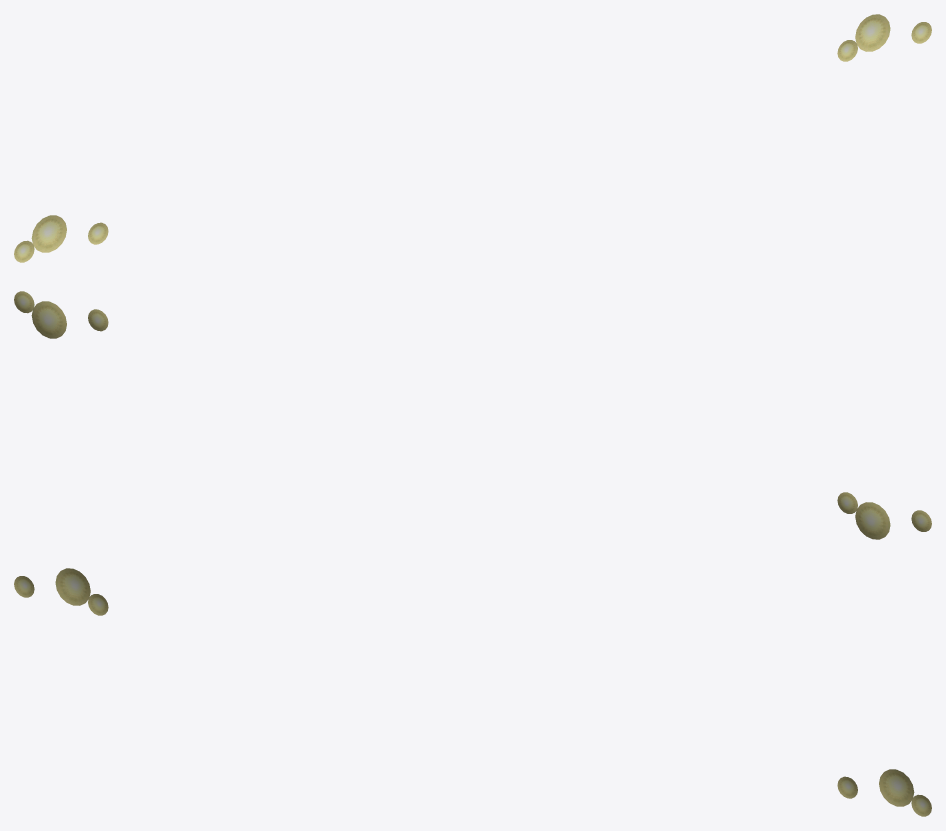
File: sorosuub_space_yacht_engine_on_l0.fbx
3 renders of one model, top to bottom at view 1: azimuth 30°, elevation 25°; view 2: azimuth 150°, elevation 25°; view 3: azimuth 330°, elevation 25°, orthographic.
Visible parts, largest first — view 1: mesh_node; view 2: mesh_node; view 3: mesh_node.
Part boxes in pixels (box(x1,y1,x2,y2)): mesh_node: box(14, 14, 931, 262); mesh_node: box(14, 291, 931, 539); mesh_node: box(14, 568, 931, 816).
Size of the model in its own units: 37.9 by 1.46 by 0.9959.
